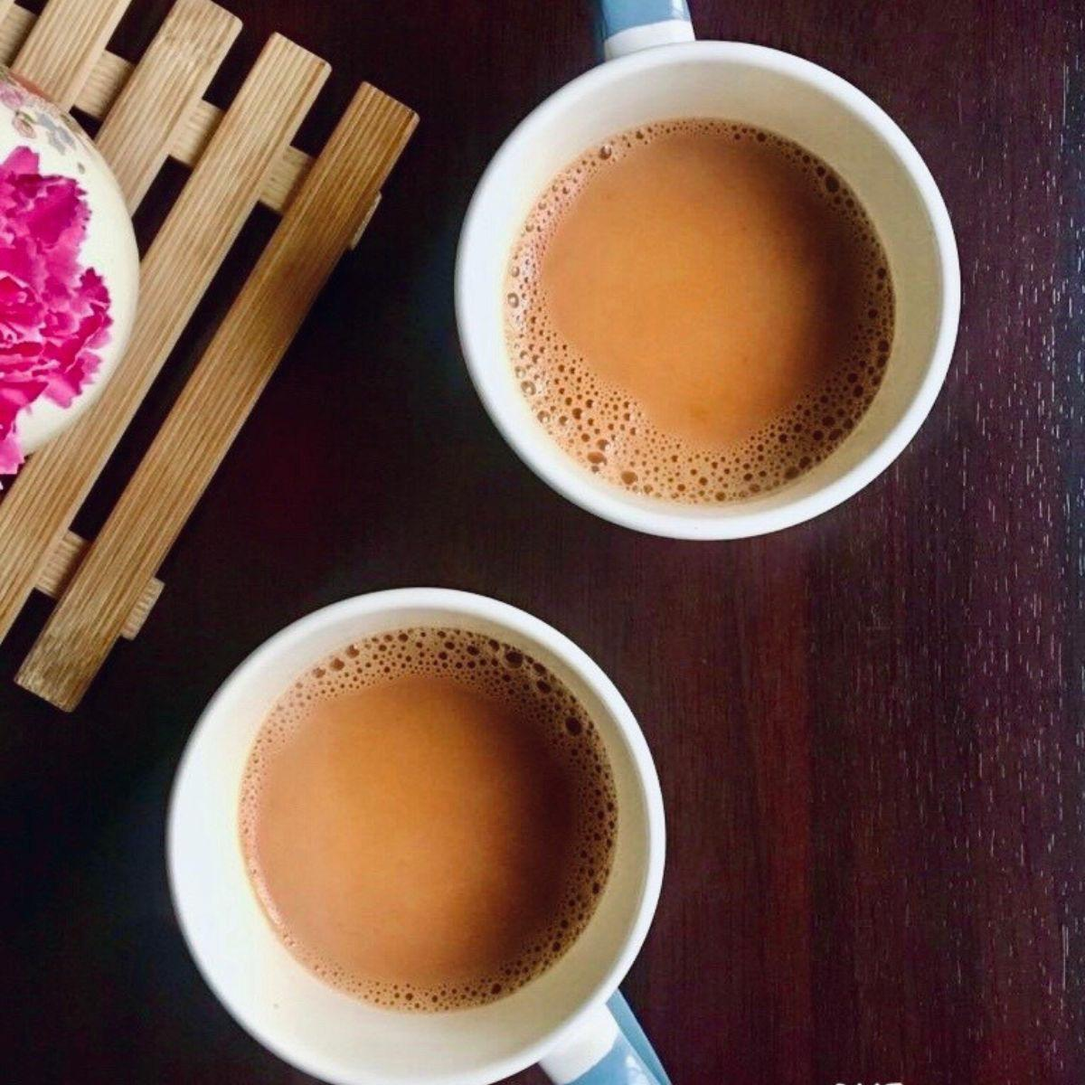Chai: (501, 115, 903, 510), (238, 613, 621, 1008)
